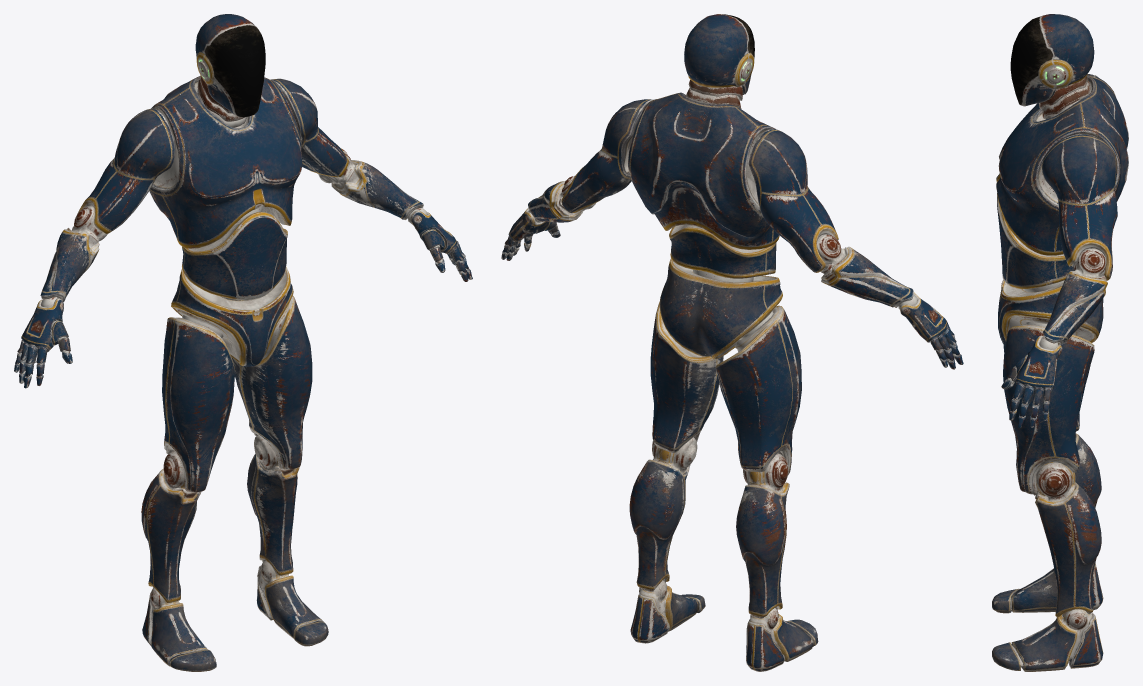
3 renders of one model, left to right at view 1: azimuth 30°, elevation 25°; view 2: azimuth 150°, elevation 25°; view 3: azimuth 270°, elevation 25°, orthographic.
Parts seen in each view (by area): view 1: SK_Mannequin; view 2: SK_Mannequin; view 3: SK_Mannequin.
Boxes of the visible parts, x1=… form: SK_Mannequin: x1=14, y1=14, x2=472, y2=671; SK_Mannequin: x1=501, y1=14, x2=963, y2=671; SK_Mannequin: x1=992, y1=14, x2=1128, y2=671.
Bounding box in the file's own units: 1.52 × 2 × 0.4023.
1 material, 1 textured.
